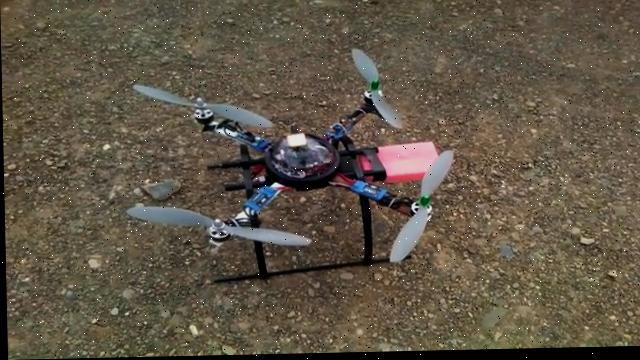drone: (122, 45, 460, 289)
